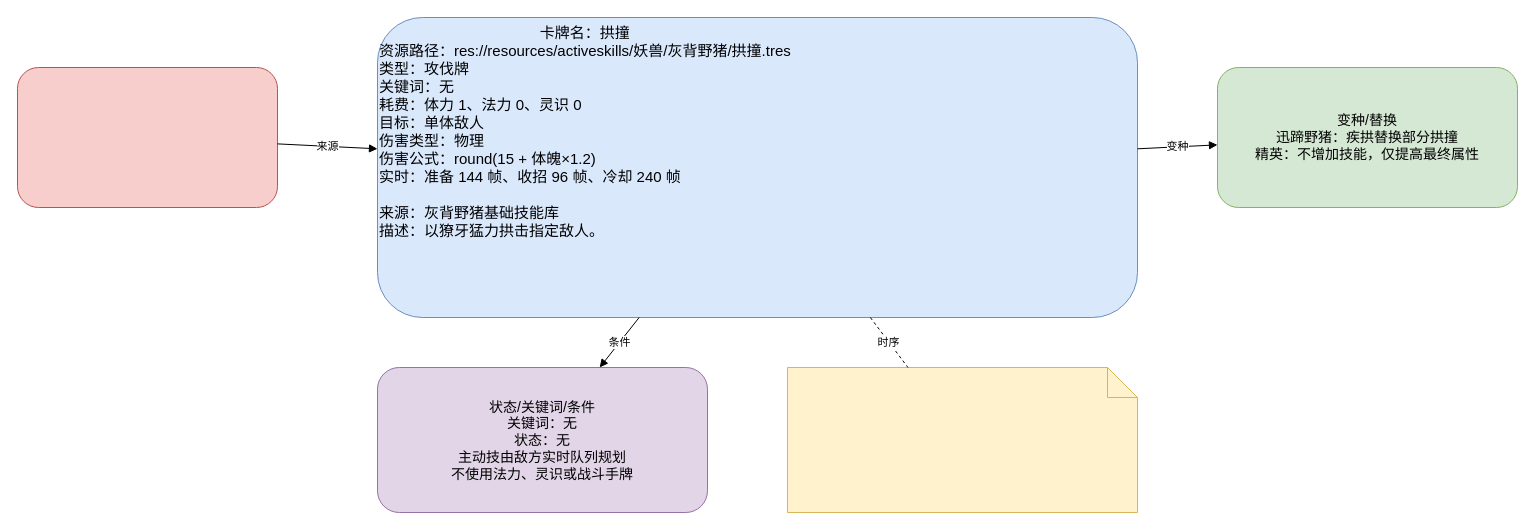
The diagram is 1535 pixels wide and 530 high, and some of its shapes have lost their labels. Here are the shapes that lost their labels. From the top down, the centre of each, then its label:
point (147, 137): 来源/前置 来源分类：妖兽技能 来源兽种：灰背野猪 基础技能库：灰背野猪 前置：无
point (962, 439): 时序与目标 目标类型：单体敌方 准备：144 帧 收招：96 帧 冷却：240 帧
